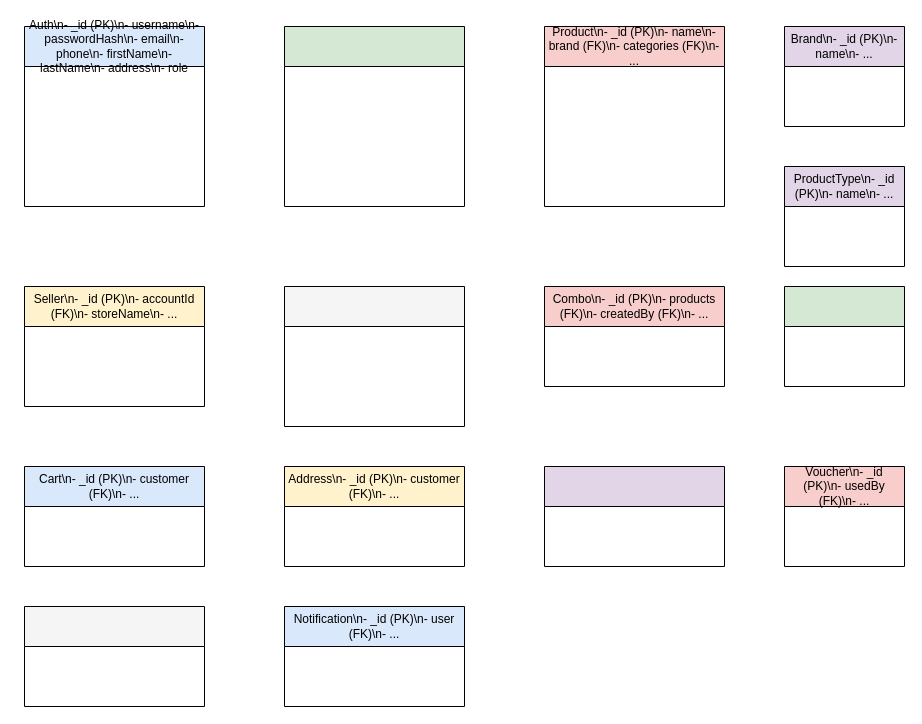
This 922x724 diagram has some shape labels left out. Here are the shapes that lost their labels. From the top down, the centre of each, then its label:
point 374,116: Customer\n- _id (PK)\n- accountId (FK)\n- username\n- email\n- ...
point 374,356: Order\n- _id (PK)\n- customer (FK)\n- combo (FK)\n- ...
point 844,336: Review\n- _id (PK)\n- product (FK)\n- customer (FK)\n- rating\n- ...
point 634,516: Wishlist\n- _id (PK)\n- customer (FK)\n- products (FK)\n- ...
point 114,656: Report\n- _id (PK)\n- seller (FK)\n- ...
